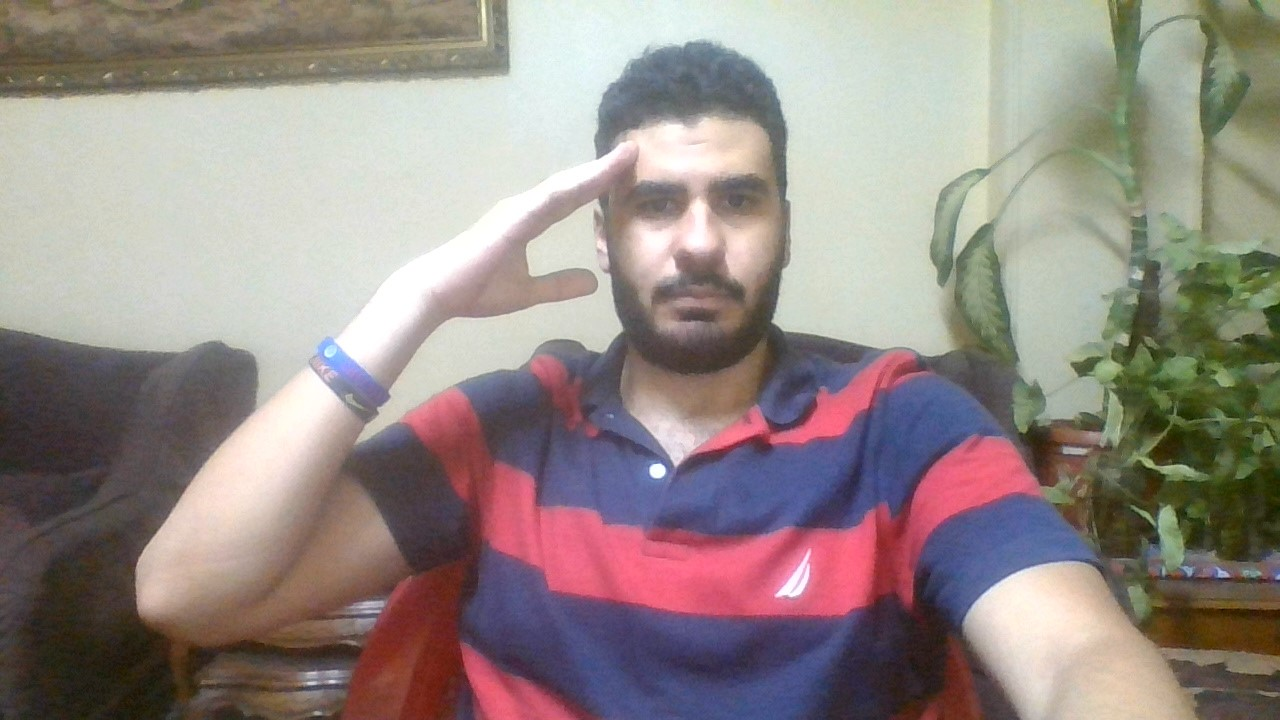hello: (412, 139, 632, 316)
